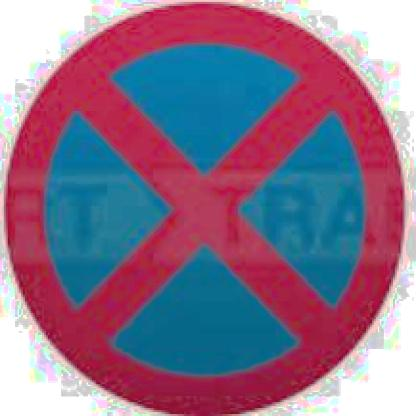No stopping: (0, 2, 403, 414)
